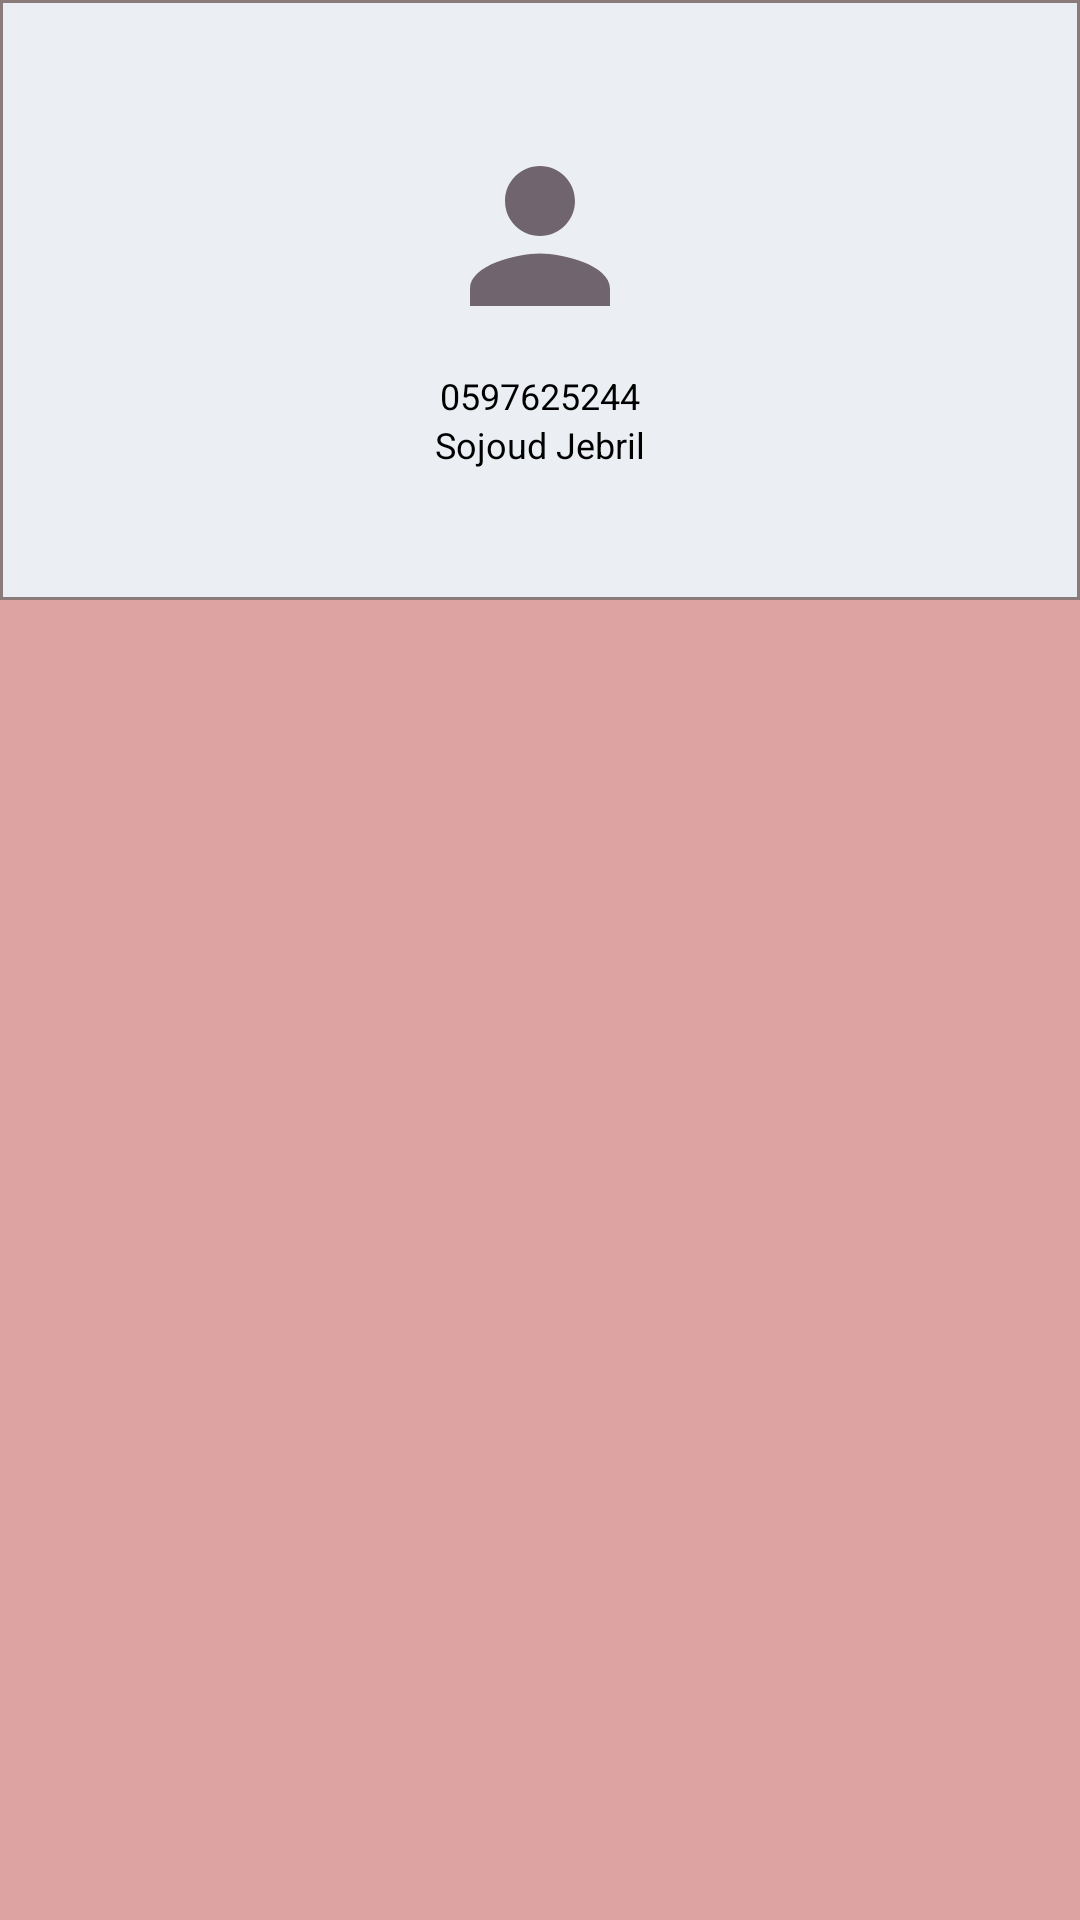

Screen size 1080x1920. Icon name, then its box in pixels as [x1,y1,x2,y2]:
person: [470,166,610,306]
